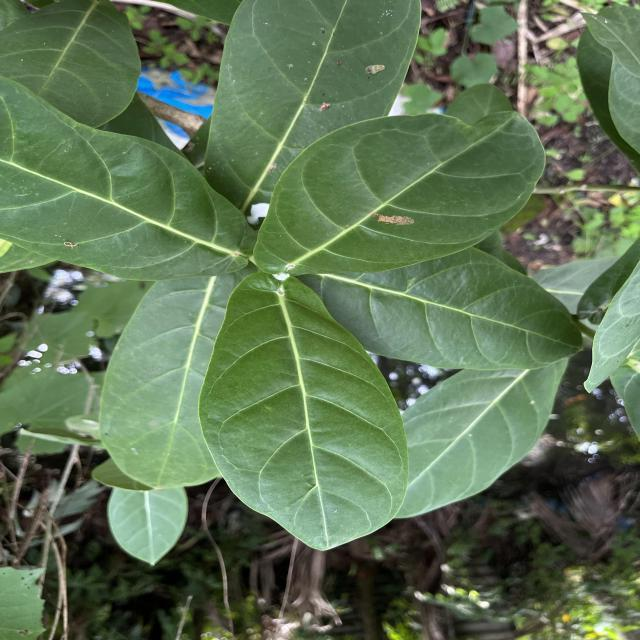Calotropis gigantea: (196, 270, 410, 554), (0, 72, 259, 284), (246, 112, 548, 279), (202, 0, 422, 228), (316, 245, 586, 374), (92, 272, 245, 491)
